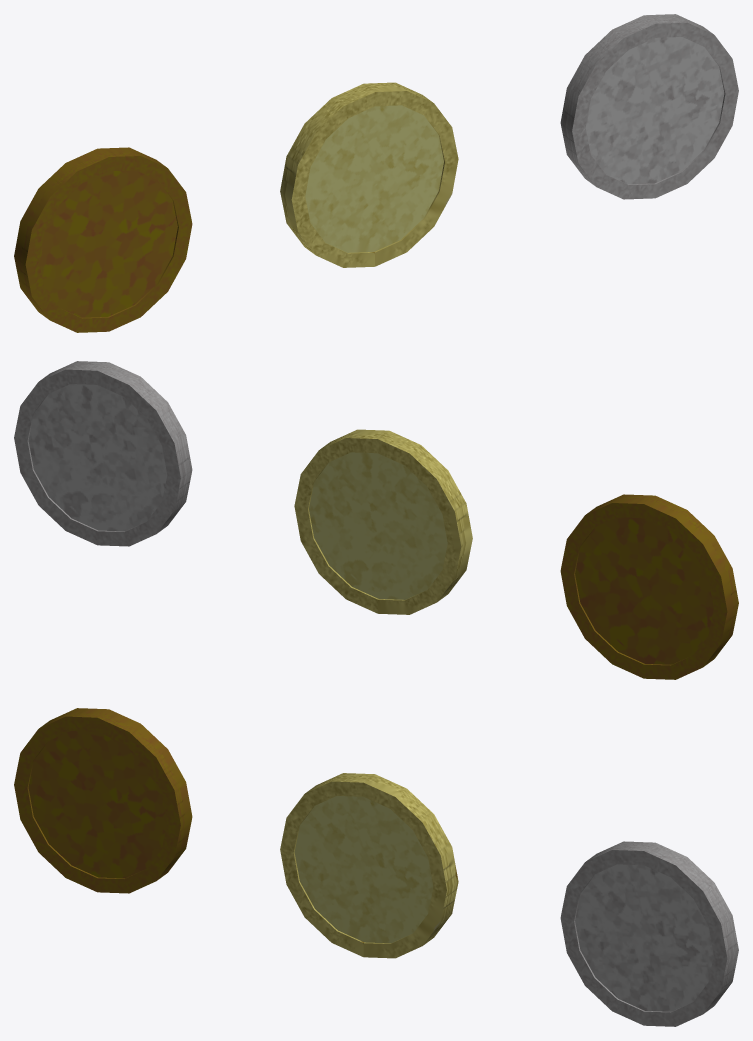
File: Coins.fbx
The picture shows the model from 3 angles, top to bottom: view 1: azimuth 30°, elevation 25°; view 2: azimuth 150°, elevation 25°; view 3: azimuth 330°, elevation 25°; orthographic projection.
Visible parts, largest first — view 1: Coin_2, Coin_3, Coin_1; view 2: Coin_2, Coin_3, Coin_1; view 3: Coin_2, Coin_3, Coin_1.
Boxes of the visible parts, <box> form: Coin_2: <box>14,147,192,332</box>; Coin_3: <box>560,14,738,199</box>; Coin_1: <box>280,82,458,267</box>; Coin_2: <box>560,494,738,679</box>; Coin_3: <box>14,361,192,546</box>; Coin_1: <box>294,429,472,614</box>; Coin_2: <box>14,708,192,893</box>; Coin_3: <box>560,841,738,1026</box>; Coin_1: <box>280,773,458,958</box>.
Size of the model in its own units: 1.32 by 0.308 by 0.037.
